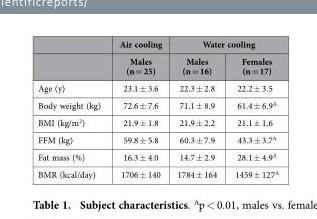table: (37, 37, 277, 180)
table column: (37, 37, 109, 180), (109, 37, 169, 180), (169, 37, 225, 180), (225, 37, 277, 180)
table column header: (37, 37, 277, 79)
table row: (37, 52, 277, 79), (37, 130, 277, 148), (37, 79, 277, 96), (37, 96, 277, 113), (37, 113, 277, 130), (37, 148, 277, 165), (37, 37, 277, 52), (37, 165, 277, 180)
table spanning cell: (109, 37, 169, 79), (169, 37, 277, 52)
